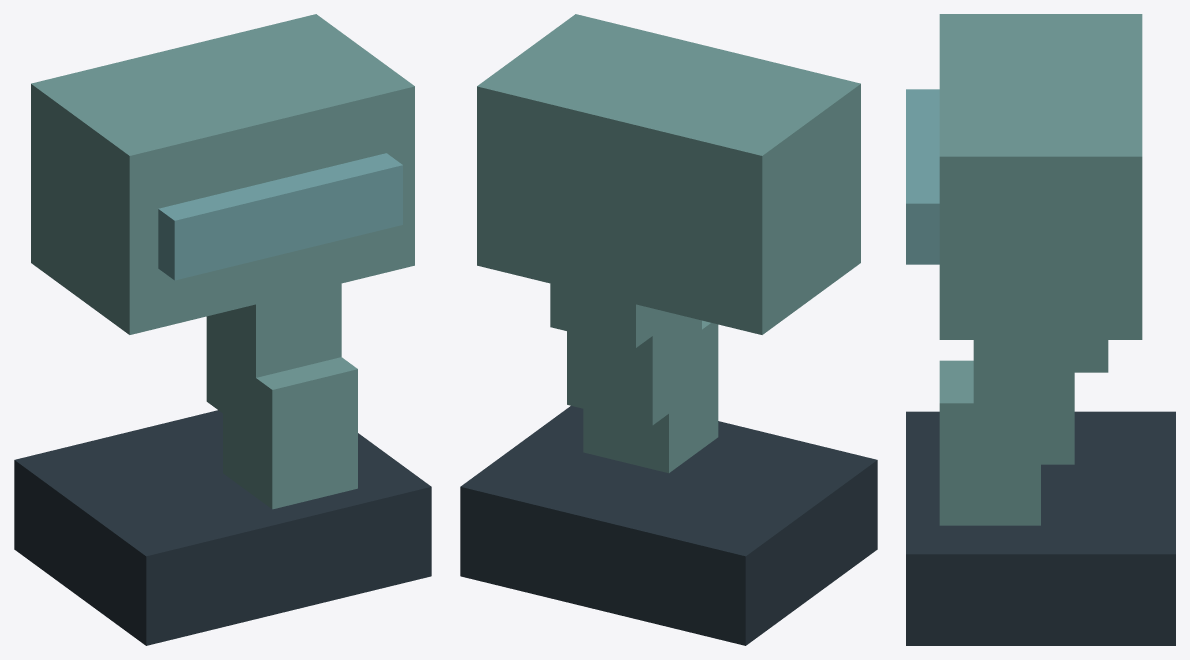
File: health-10.glb
The picture shows the model from 3 angles, left to right: view 1: azimuth 30°, elevation 25°; view 2: azimuth 150°, elevation 25°; view 3: azimuth 270°, elevation 25°; orthographic projection. The views are drawn at different scales.
Visible parts, largest first — view 1: Lab scanner; view 2: Lab scanner; view 3: Lab scanner.
Part boxes in pixels (left/top/right/bottom): Lab scanner: left=14, top=14, right=431, bottom=645; Lab scanner: left=460, top=14, right=877, bottom=645; Lab scanner: left=906, top=14, right=1175, bottom=645.
Bounding box in the file's own units: 0.8 × 1.28 × 0.64.
